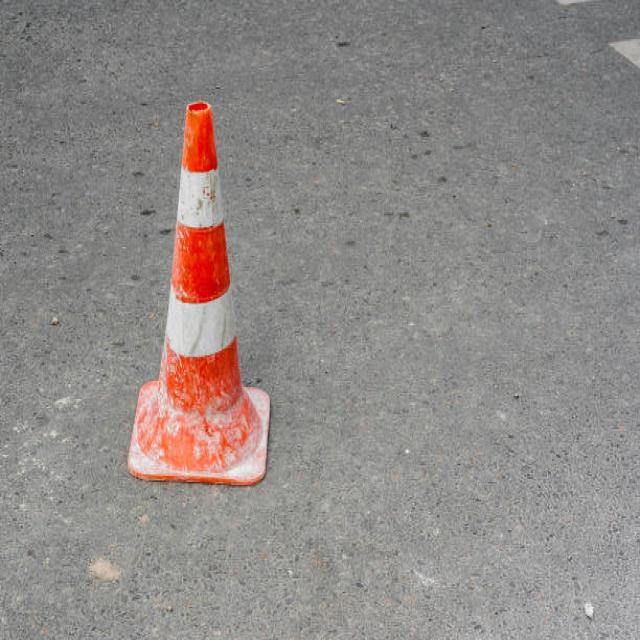Traffic Cone: (110, 70, 286, 504)
